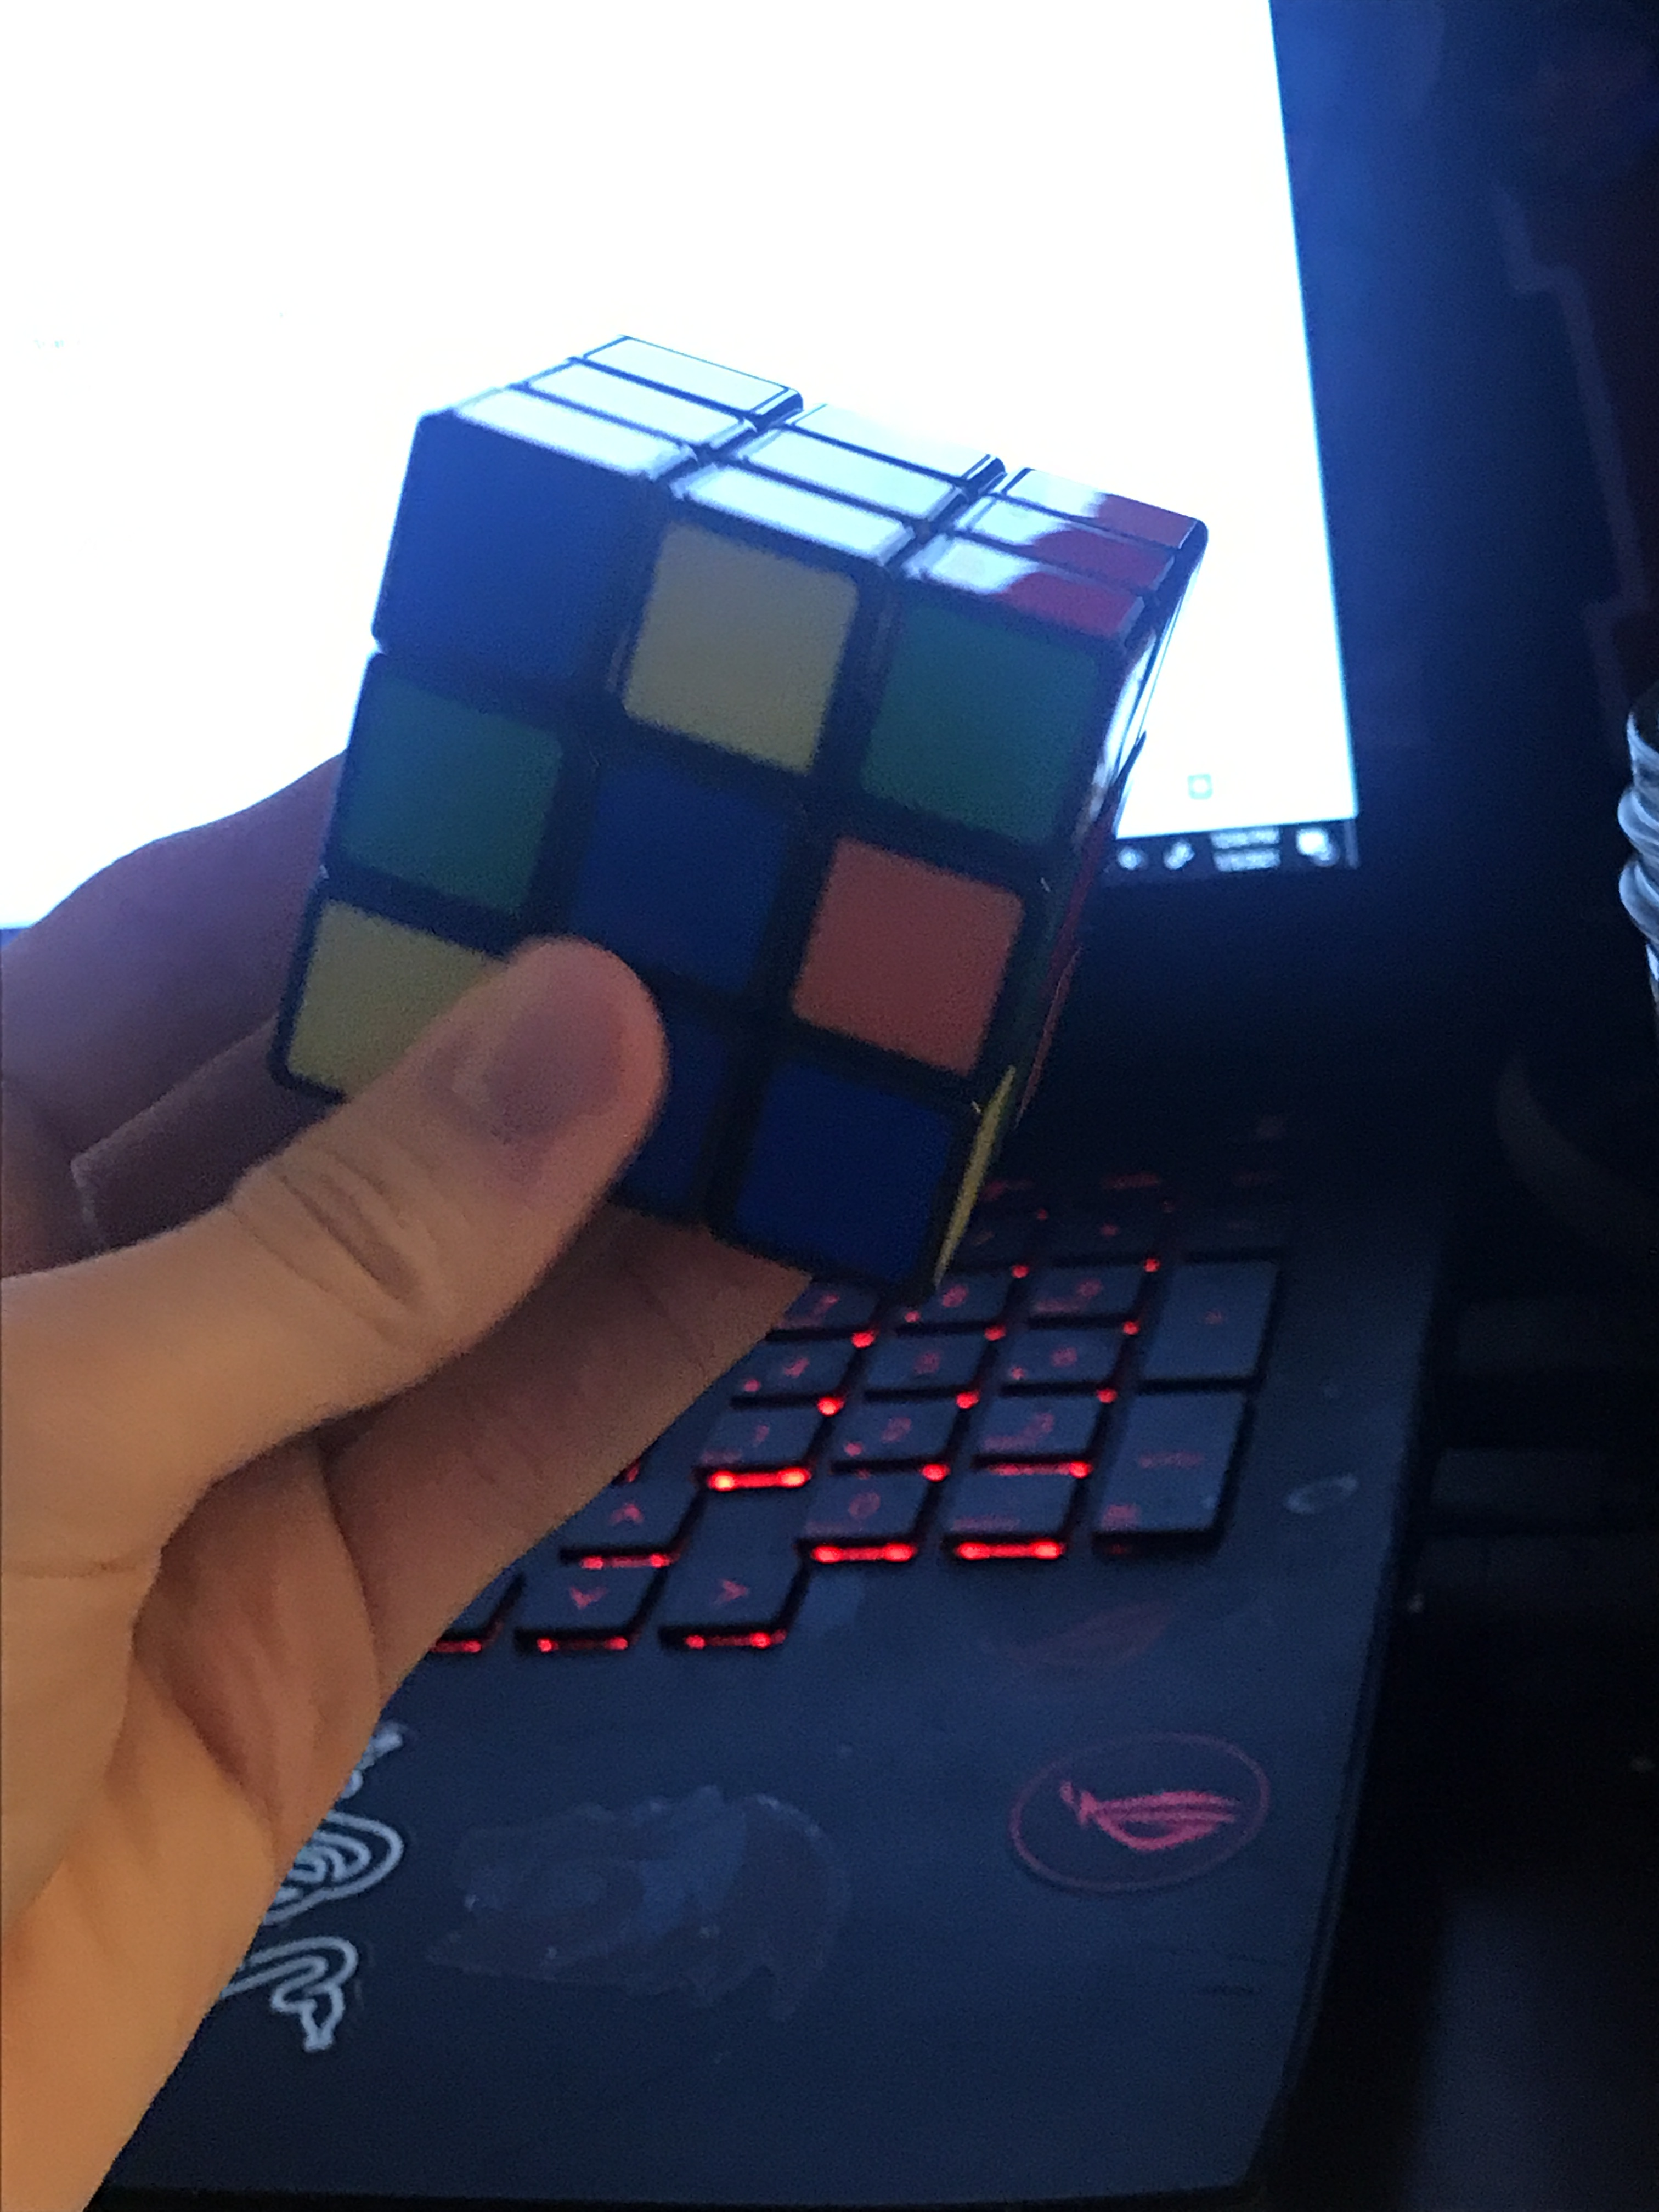rubiks: (298, 338, 1209, 1294)
